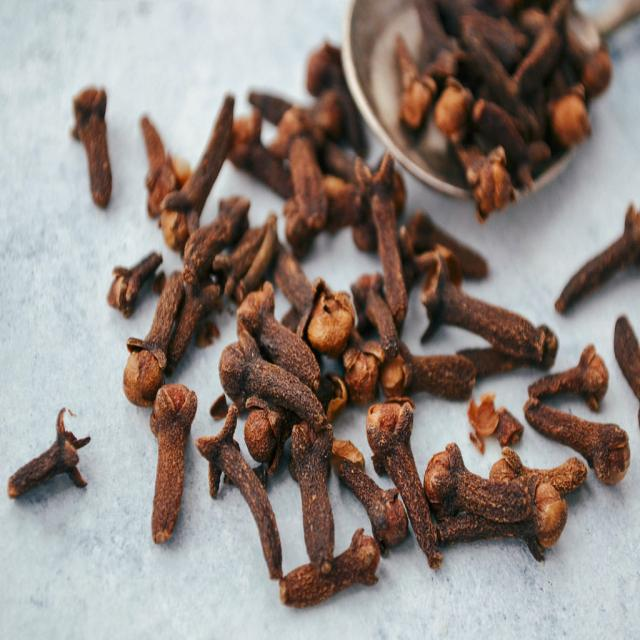clove: (124, 156, 586, 607)
